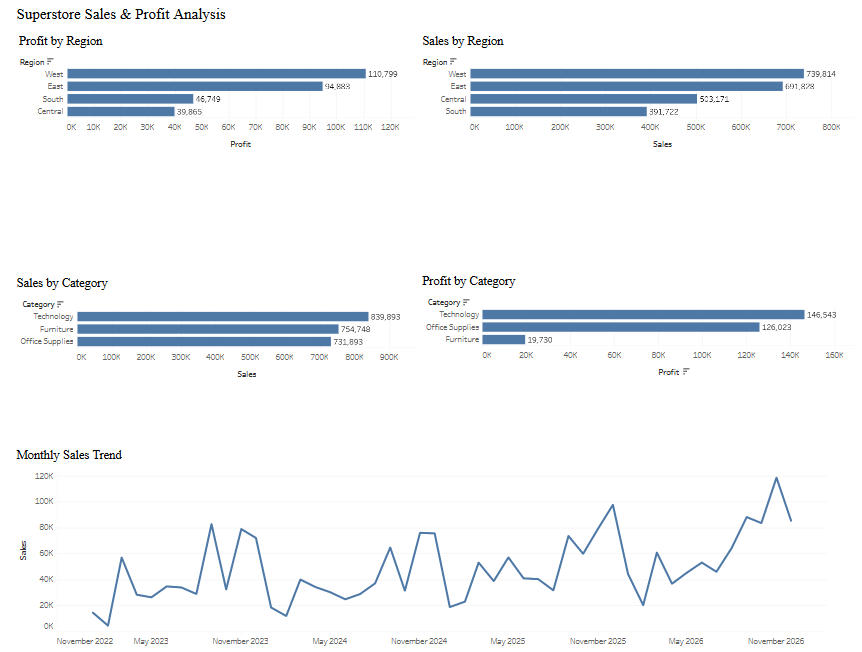

What the dashboard file says about the page in this screenshot:
{"tool":"tableau","page":{"name":"Superstore Sales & Profit Dashboard","canvas":[1366,1100],"ordinal":0},"visuals":[{"type":"title","box":[8,8,1350,46]},{"type":"worksheet","title":"Profit by Region","mark":"Automatic","rows":["Region"],"cols":["Profit"],"box":[8,54,645,1038]},{"type":"worksheet","title":"Sales by Region","mark":"Automatic","rows":["Region"],"cols":["Sales"],"box":[653,54,705,382.9]},{"type":"worksheet","title":"Profit by Category","mark":"Automatic","rows":["Category"],"cols":["Profit"],"box":[653,436.9,705,655.1]},{"type":"worksheet","title":"Sales by Category","mark":"Automatic","rows":["Category"],"cols":["Sales"],"box":[8,440,645,243.1]},{"type":"worksheet","title":"Monthly Sales Trend","mark":"Automatic","rows":["Sales"],"cols":["Order Date"],"box":[8,715,1300,358.6]}]}

Visuals, with their boxes on the page's 1366x1100 design canvas (x1, y1, x2, y2). These are canvas units, not pixel positions in the 862x652 screenshot, which may show the page scaled, cropped or inside an application window:
title: box(8, 8, 1358, 54)
"Profit by Region" worksheet: box(8, 54, 653, 1092)
"Sales by Region" worksheet: box(653, 54, 1358, 437)
"Profit by Category" worksheet: box(653, 437, 1358, 1092)
"Sales by Category" worksheet: box(8, 440, 653, 683)
"Monthly Sales Trend" worksheet: box(8, 715, 1308, 1074)
